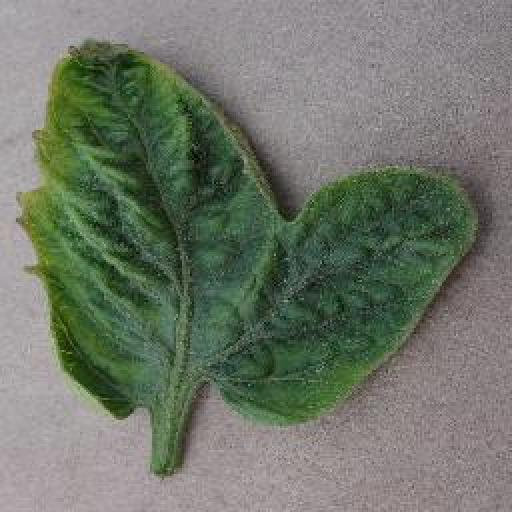disease_tomato: (18, 38, 484, 428)
